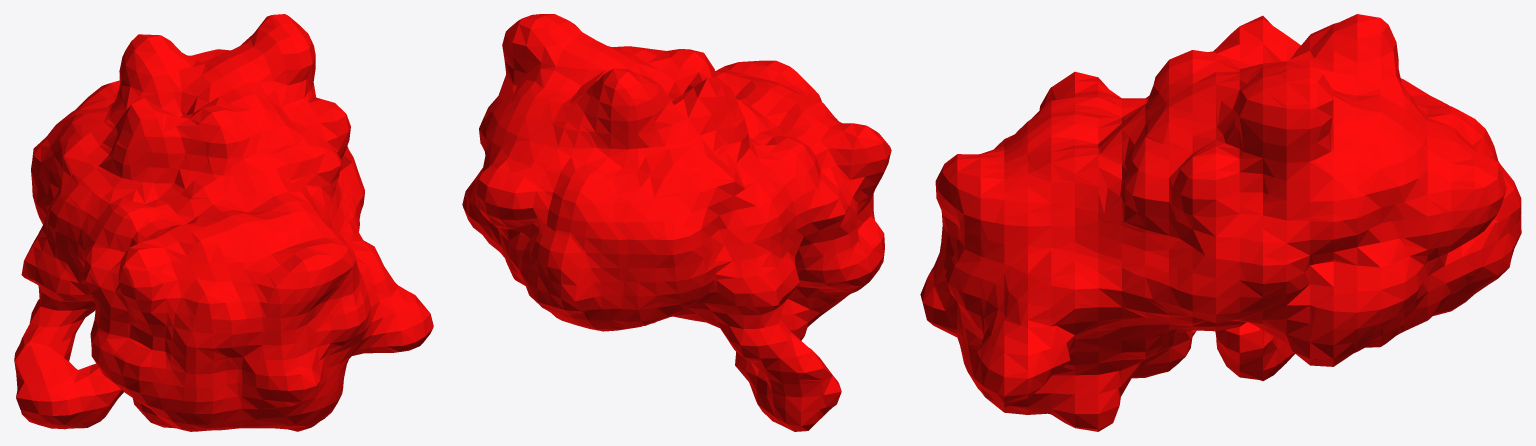
The model's file is yebT_coarse.dae.
The picture shows the model from 3 angles, left to right: view 1: azimuth 30°, elevation 25°; view 2: azimuth 150°, elevation 25°; view 3: azimuth 270°, elevation 25°; orthographic projection. The views are drawn at different scales.
Parts seen in each view (by area): view 1: yebT; view 2: yebT; view 3: yebT.
Part boxes in pixels (<box>): yebT: <box>14,14,433,431</box>; yebT: <box>462,14,891,431</box>; yebT: <box>920,14,1521,431</box>.
Bounding box in the file's own units: 75.59 × 75.51 × 92.02.
